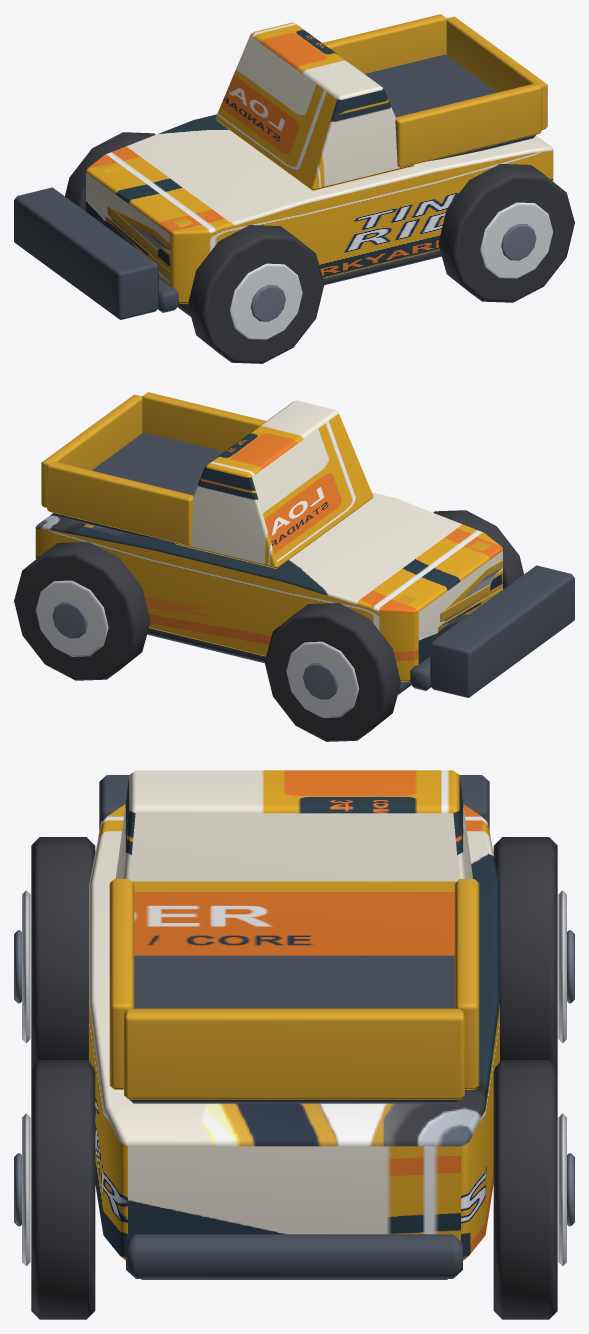
3 renders of one model, top to bottom at view 1: azimuth 30°, elevation 25°; view 2: azimuth 150°, elevation 25°; view 3: azimuth 270°, elevation 25°, orthographic. The views are drawn at different scales.
Parts seen in each view (by area): view 1: WY-05_connected_shell, WY-05_cabin, loader bucket, Tire.002, Tire, cargo side, cargo floor, cargo side.001, cargo tail, Rim, Rim.002, Tire.001 (+4 smaller); view 2: WY-05_connected_shell, WY-05_cabin, loader bucket, Tire.003, Tire.001, cargo side.001, cargo floor, cargo side, cargo tail, Rim.001, Rim.003, Tire (+4 smaller); view 3: WY-05_connected_shell, WY-05_cabin, cargo tail, cargo floor, Tire.002, Tire.003, rear bumper, Tire, Tire.001, cargo side, cargo side.001, loader bucket (+4 smaller).
Boxes of the visible parts, x1,y1,x2,y2 form: WY-05_connected_shell: (86, 114, 553, 303); WY-05_cabin: (215, 22, 413, 190); loader bucket: (14, 187, 158, 319); Tire.002: (438, 164, 574, 302); Tire: (188, 225, 324, 363); cargo side: (395, 83, 541, 167); cargo floor: (365, 54, 535, 161); cargo side.001: (322, 14, 446, 73); cargo tail: (446, 16, 547, 129); Rim: (229, 263, 302, 339); Rim.002: (480, 202, 553, 278); Tire.001: (65, 132, 155, 211); WY-05_connected_shell: (35, 492, 502, 681); WY-05_cabin: (175, 400, 373, 568); loader bucket: (430, 565, 574, 697); Tire.003: (14, 542, 150, 680); Tire.001: (264, 603, 400, 741); cargo side.001: (47, 461, 193, 545); cargo floor: (53, 432, 223, 539); cargo side: (142, 392, 266, 451); cargo tail: (41, 394, 142, 507); Rim.001: (286, 641, 359, 717); Rim.003: (35, 580, 108, 656); Tire: (433, 510, 523, 589); WY-05_connected_shell: (89, 804, 499, 1260); WY-05_cabin: (116, 770, 472, 955); cargo tail: (124, 1008, 464, 1099); cargo floor: (129, 955, 459, 1103); Tire.002: (31, 1060, 95, 1319); Tire.003: (493, 1060, 557, 1319); rear bumper: (126, 1234, 462, 1278); Tire: (31, 837, 95, 1068); Tire.001: (493, 837, 557, 1068); cargo side: (109, 879, 134, 1089); cargo side.001: (454, 879, 479, 1089); loader bucket: (99, 775, 489, 830).
Size of the model in its own units: 389 by 183 by 228.
